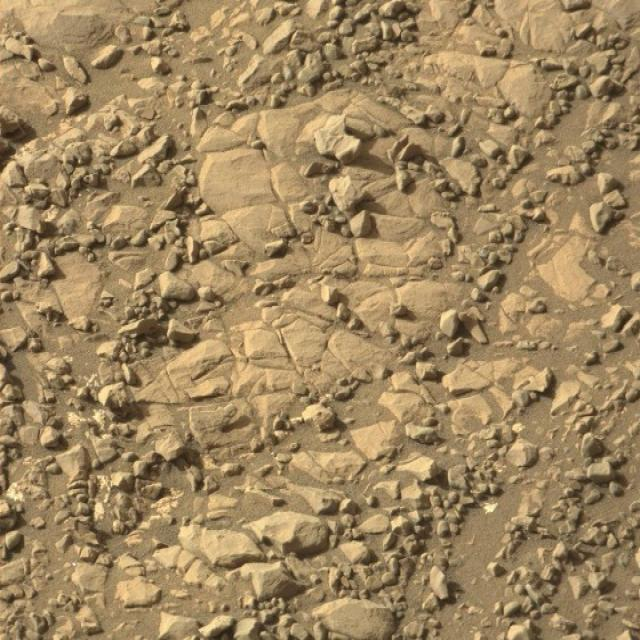rock: (248, 511, 334, 556), (313, 112, 367, 164)
